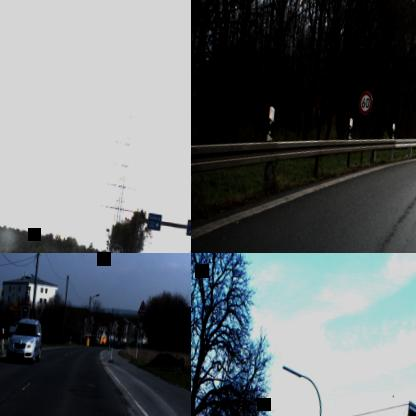priority at next intersection: (137, 298, 148, 315)
speed limit 60: (356, 89, 374, 115)
